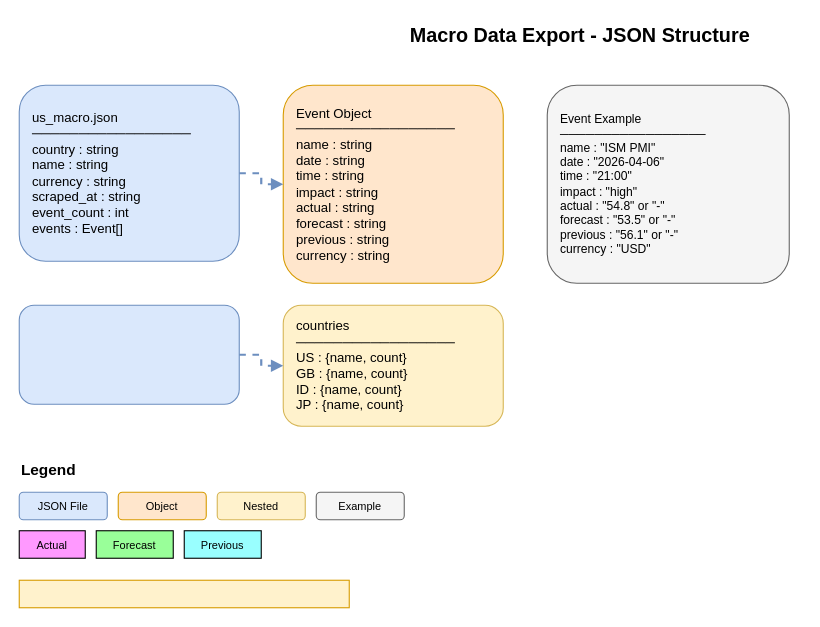
This 820x627 diagram has some shape labels left out. The centre of each missing label's shape, as x and y in pixels:
* actual, forecast, previous = "-" jika data belum dirilis: (183,593)
_summary.json ───────────────── scraped_at : string countries : object: (128,354)
